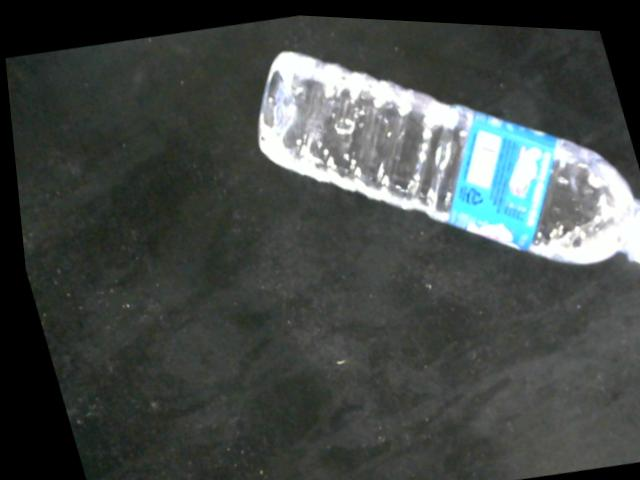bottle: (254, 46, 640, 261)
